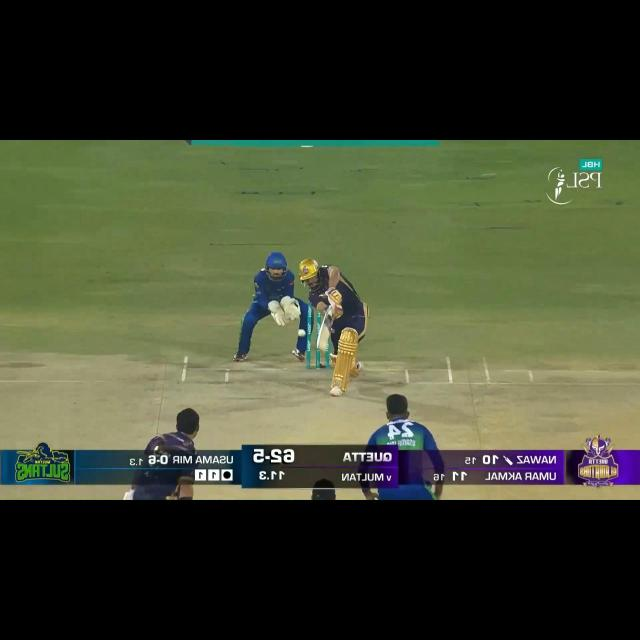bat: (315, 308, 337, 352)
toe: (317, 344, 326, 352)
